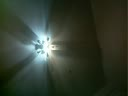window: (0, 5, 35, 96), (49, 80, 78, 96), (49, 42, 70, 56), (102, 87, 121, 96), (99, 57, 105, 65)
